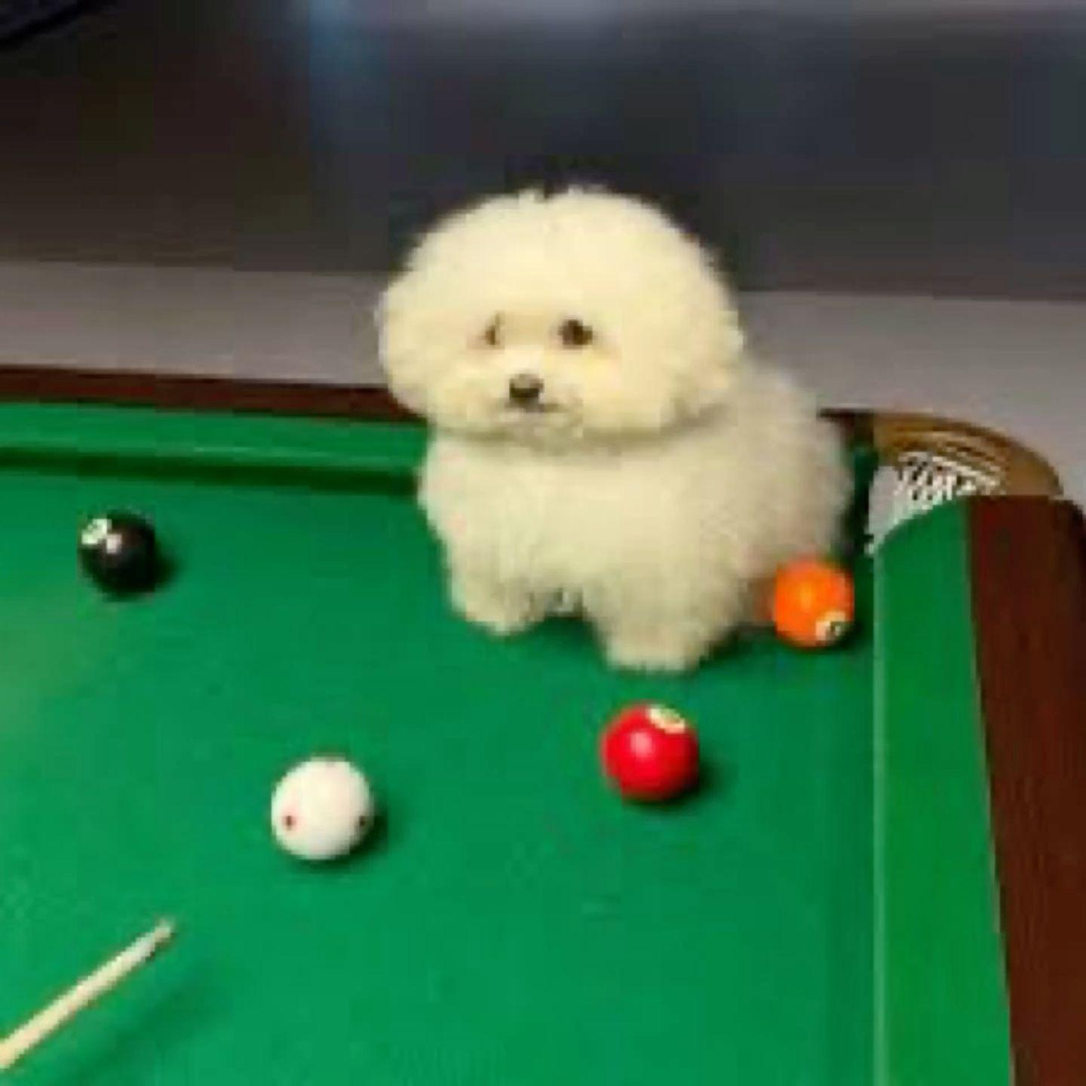puppy-dog: (372, 183, 851, 673)
